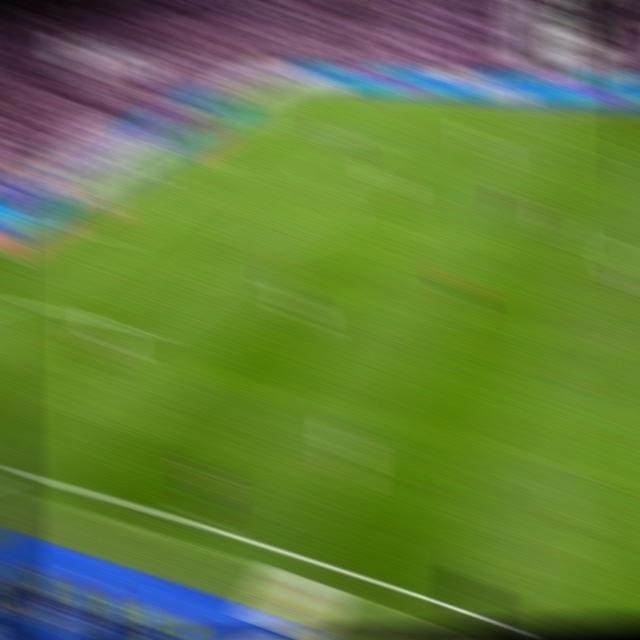bigarea_bottom_inner: (128, 312, 161, 343)
bigarea_top_inner: (356, 126, 383, 147)
bigarea_top_outter: (218, 110, 246, 129)
bottom_arc_area_intersection: (227, 233, 258, 258)
corner: (273, 80, 300, 95)
smallarea_bottom_inner: (94, 224, 123, 247)
smallarea_top_inner: (209, 152, 234, 169)
top_arc_area_intersection: (305, 170, 333, 191)
